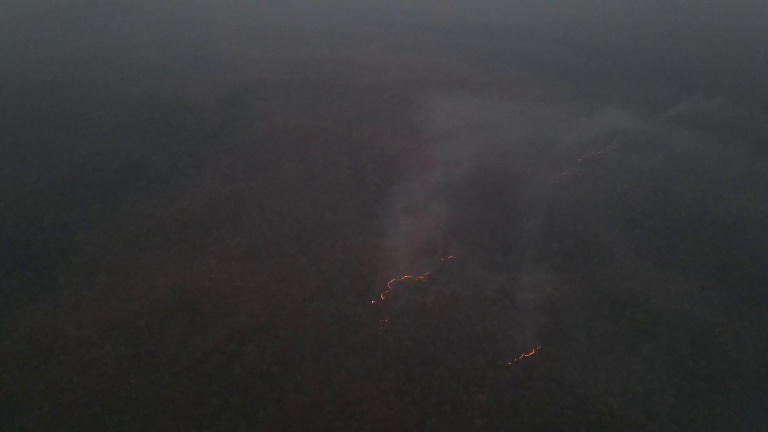fire: (366, 270, 436, 320), (506, 342, 544, 371), (438, 250, 459, 262)
smoke: (370, 96, 572, 270)
